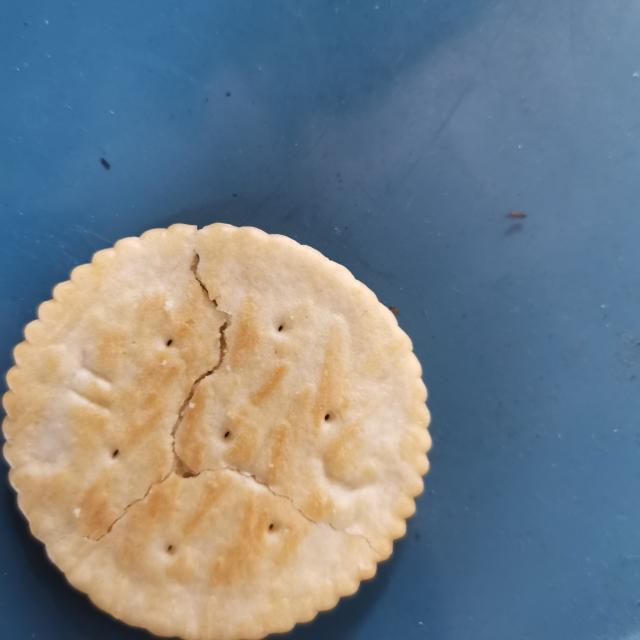Fracture: (59, 226, 393, 568)
